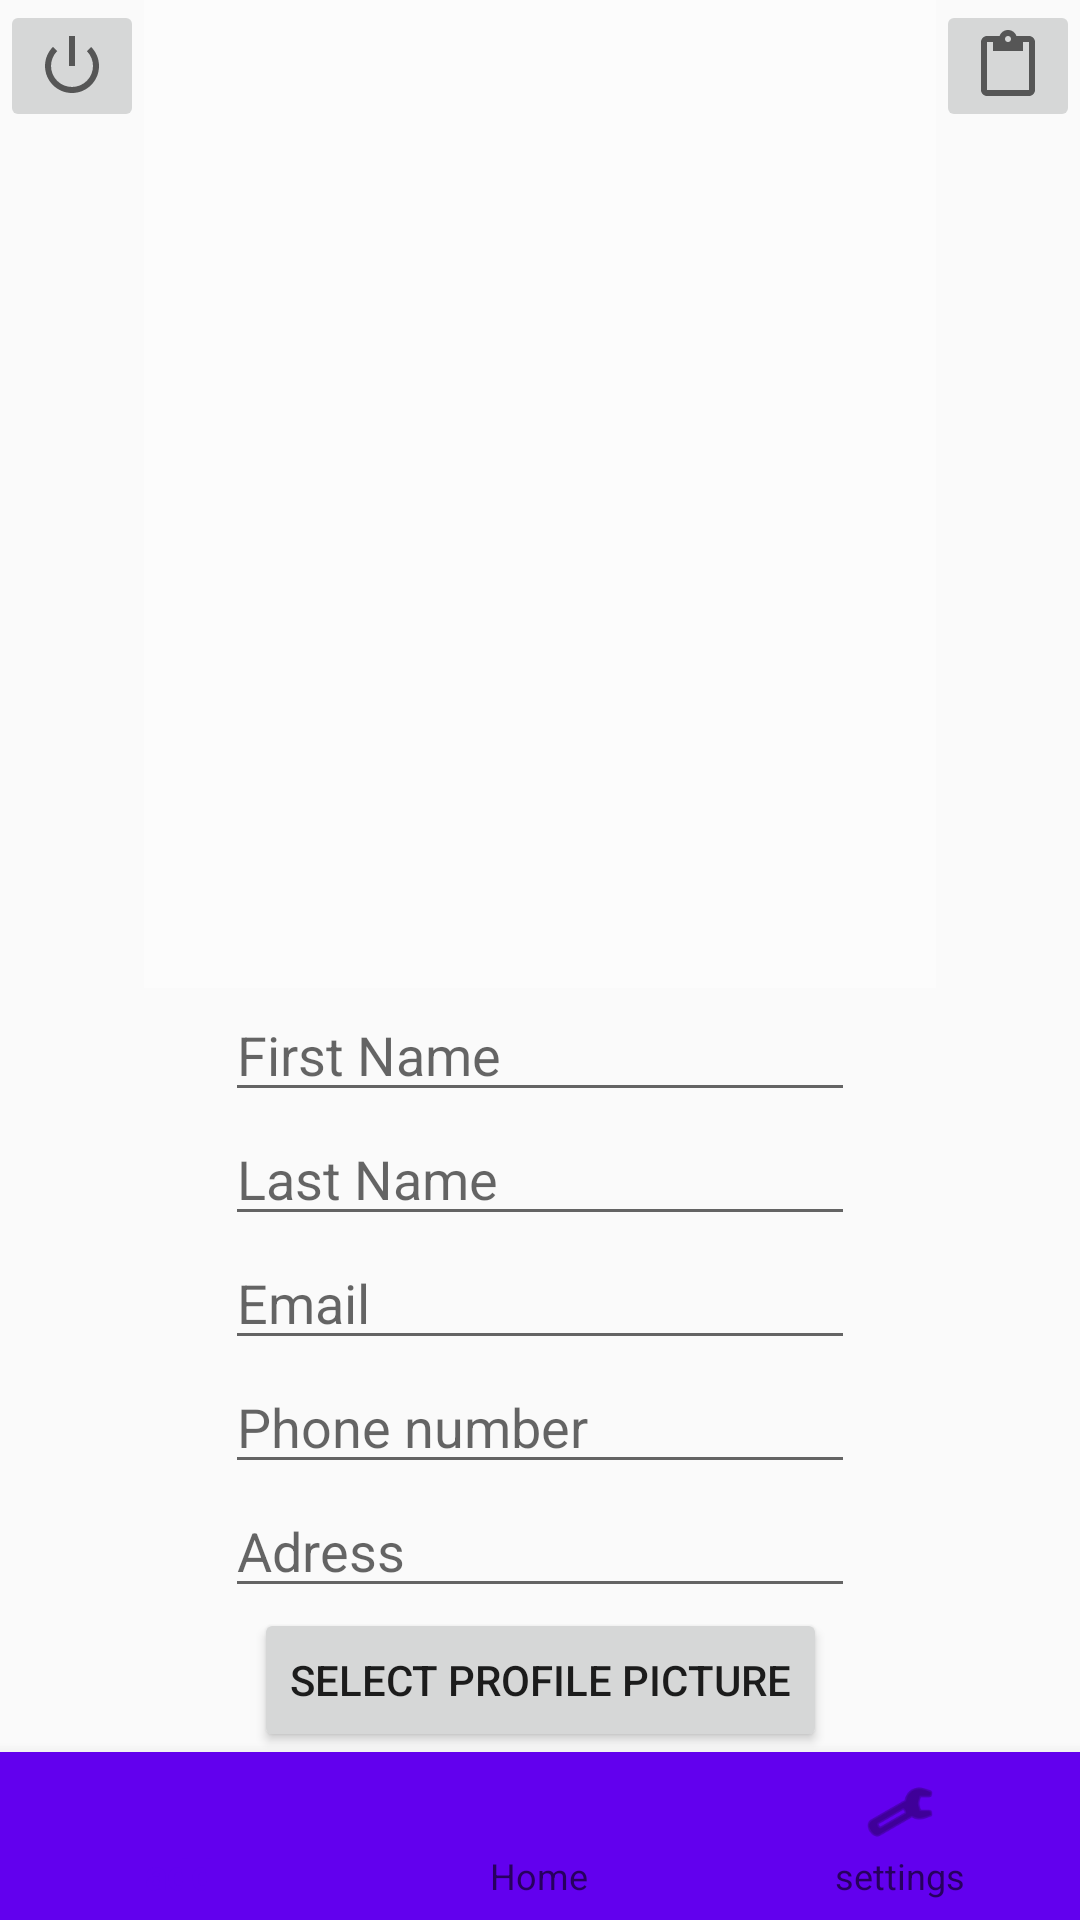

Point at icon controls on the screen. Image size 1080x1920, points as (x=x, y=y).
lock power off: (x=72, y=66)
